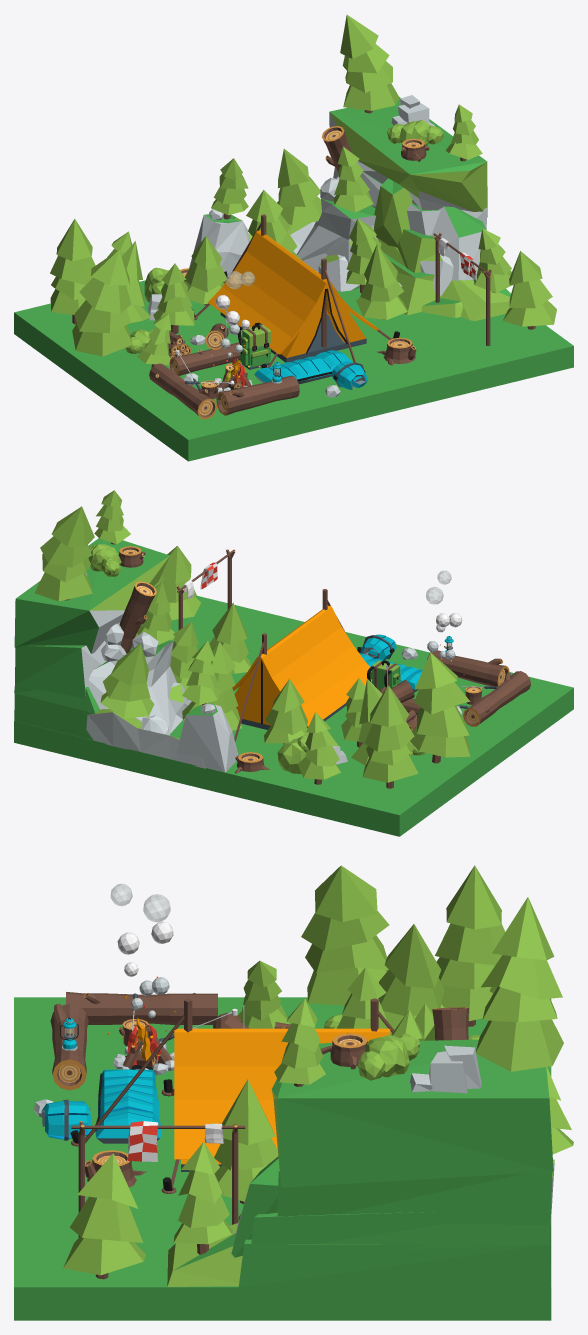
Rendered from Camping.glb.
The picture shows the model from 3 angles, top to bottom: view 1: azimuth 30°, elevation 25°; view 2: azimuth 150°, elevation 25°; view 3: azimuth 270°, elevation 25°; orthographic projection. The views are drawn at different scales.
Visible parts, largest first — view 1: group2016668438, group1952899948, group263612592, group892487588, group1952414952, group2025258381, group954393760, group1511101908, group800851294, group1019102024, group624108358, group947843091 (+32 smaller); view 2: group2016668438, group1952899948, group263612592, group892487588, group1952414952, group632722702, group2025258381, group1774266040, group1806860140, group800851294, group954393760, group1434122196 (+25 smaller); view 3: group2016668438, group1952899948, group1434122196, group1997237509, group632722702, group1952414952, group1511301575, group892487588, group2025258381, group1511101908, group282285962, group1019102024 (+19 smaller).
Part boxes in pixels (bbox=[...]): group2016668438: bbox=[14, 280, 573, 461]; group1952899948: bbox=[329, 97, 487, 217]; group263612592: bbox=[208, 230, 327, 354]; group892487588: bbox=[72, 249, 132, 356]; group1952414952: bbox=[340, 14, 399, 113]; group2025258381: bbox=[50, 219, 95, 324]; group954393760: bbox=[296, 198, 378, 289]; group1511101908: bbox=[503, 251, 556, 329]; group800851294: bbox=[277, 148, 321, 225]; group1019102024: bbox=[356, 244, 407, 319]; group624108358: bbox=[431, 206, 486, 280]; group947843091: bbox=[374, 178, 412, 247]; group2016668438: bbox=[14, 595, 573, 836]; group1952899948: bbox=[14, 538, 169, 653]; group263612592: bbox=[260, 606, 371, 728]; group892487588: bbox=[410, 652, 470, 763]; group1952414952: bbox=[35, 506, 94, 601]; group632722702: bbox=[15, 622, 120, 697]; group2025258381: bbox=[362, 685, 418, 788]; group1774266040: bbox=[86, 709, 205, 768]; group1806860140: bbox=[176, 703, 238, 772]; group800851294: bbox=[100, 643, 154, 718]; group954393760: bbox=[88, 640, 182, 733]; group1434122196: bbox=[14, 640, 174, 740]; group2016668438: bbox=[14, 997, 551, 1320]; group1952899948: bbox=[271, 1039, 553, 1187]; group1434122196: bbox=[238, 1214, 550, 1287]; group1997237509: bbox=[174, 1028, 390, 1159]; group632722702: bbox=[277, 1170, 552, 1231]; group1952414952: bbox=[476, 897, 563, 1071]; group1511301575: bbox=[251, 1211, 550, 1249]; group892487588: bbox=[301, 865, 389, 1005]; group2025258381: bbox=[435, 865, 505, 1026]; group1511101908: bbox=[63, 1153, 145, 1279]; group282285962: bbox=[378, 924, 444, 1035]; group1019102024: bbox=[214, 1079, 278, 1204].
Size of the model in its own units: 6.38 by 3.73 by 5.
